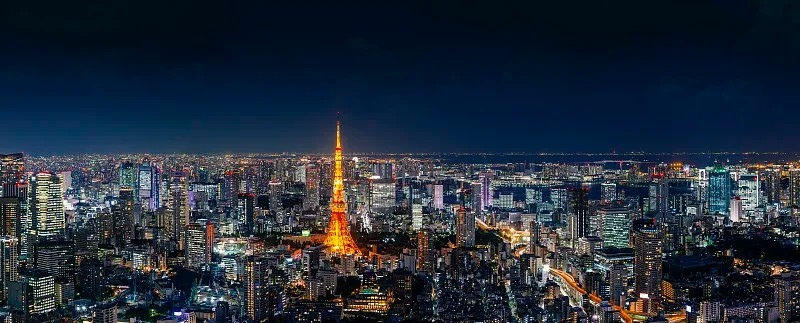Tokyo: (321, 108, 364, 259)
